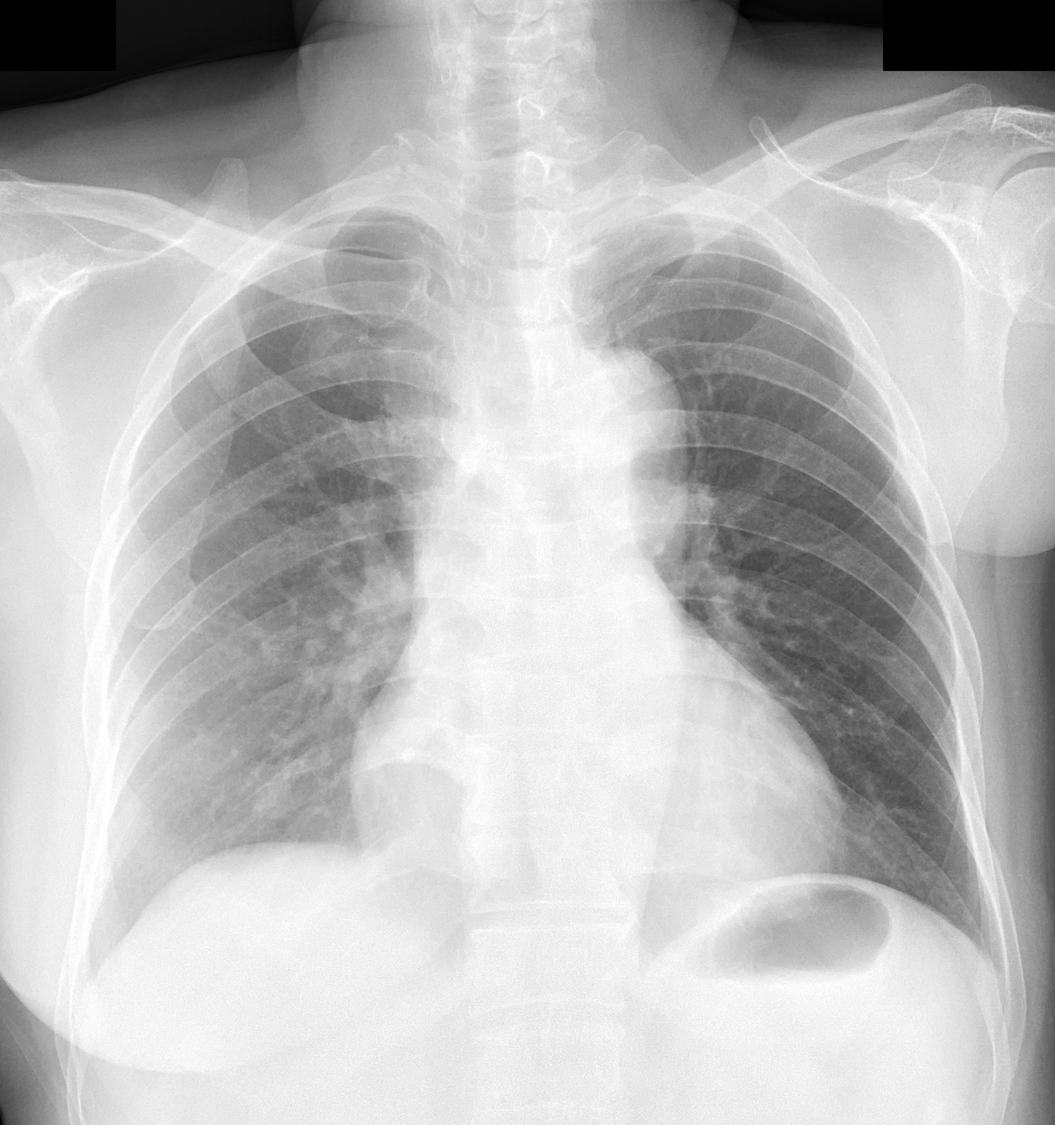Aortic enlargement: (534, 354, 686, 502)
Cardiomegaly: (348, 737, 841, 869)
